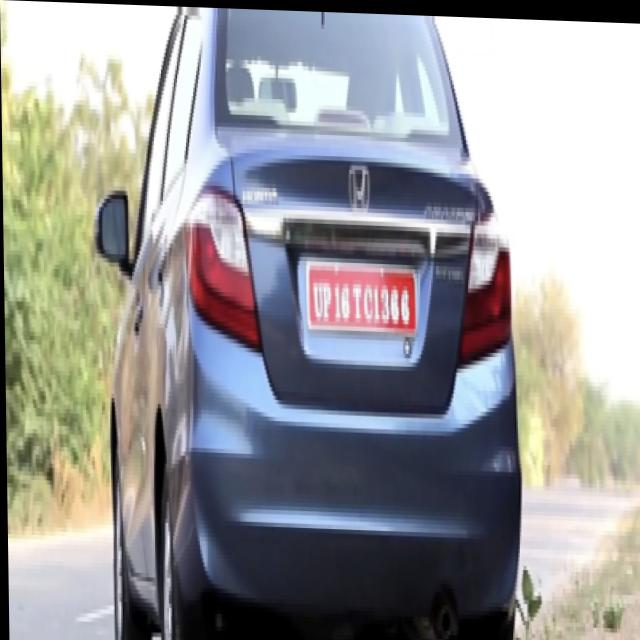licence: (304, 238, 417, 338)
